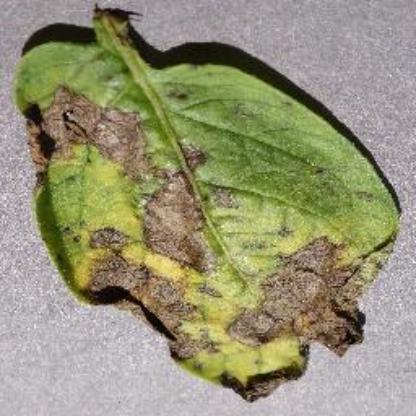Early-Blight: (8, 0, 415, 408)
